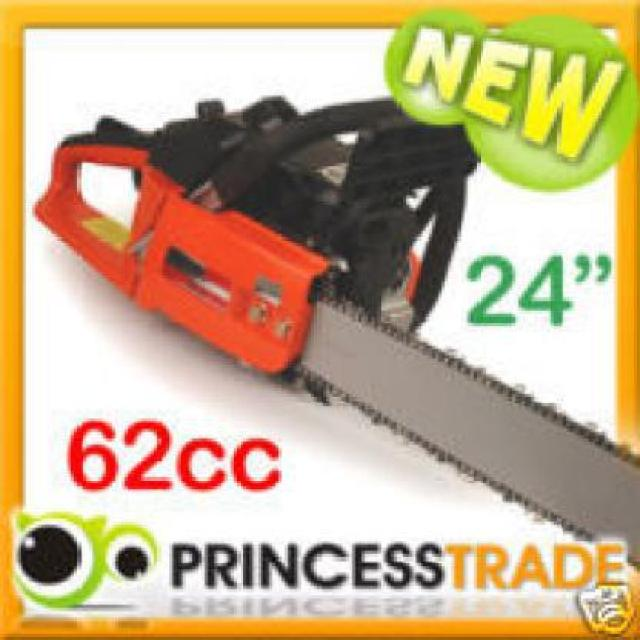Chainsaw: (31, 94, 640, 575)
